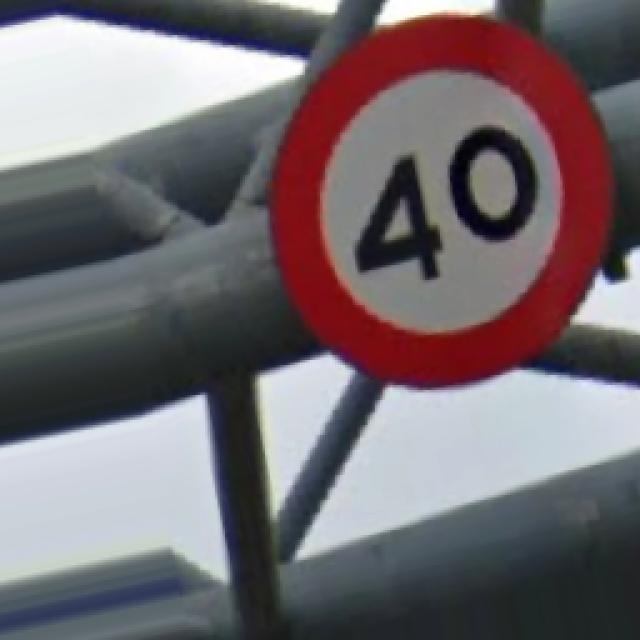Speed Limit -40-: (272, 18, 610, 385)
